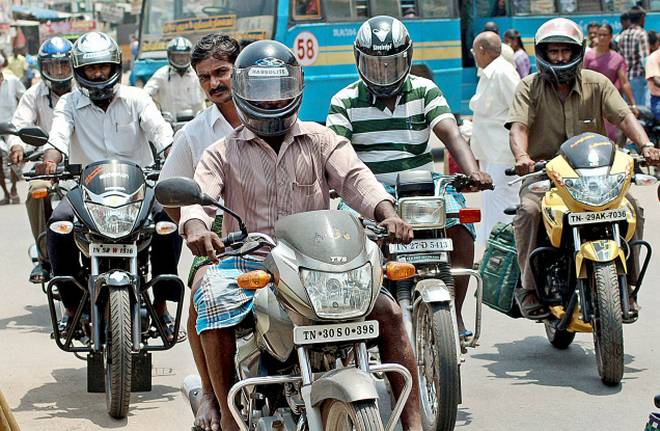helmet: (235, 41, 304, 130), (351, 13, 414, 87), (69, 33, 120, 99), (534, 20, 586, 80)
